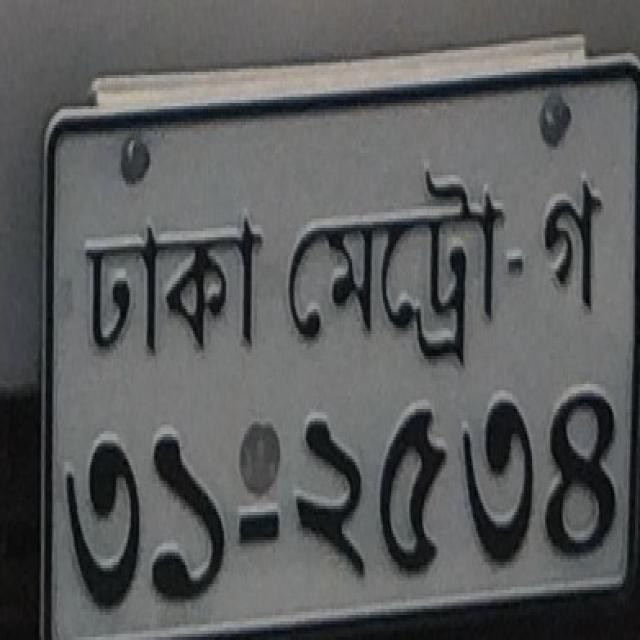numberplate: (37, 41, 637, 637)
